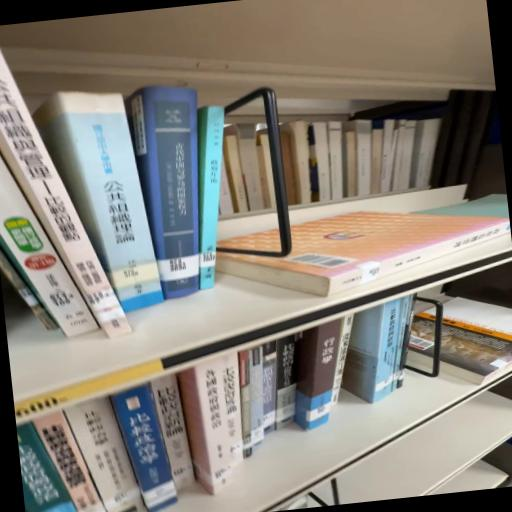flat: (218, 212, 511, 297), (441, 298, 512, 385), (409, 309, 437, 369), (220, 230, 277, 251)
